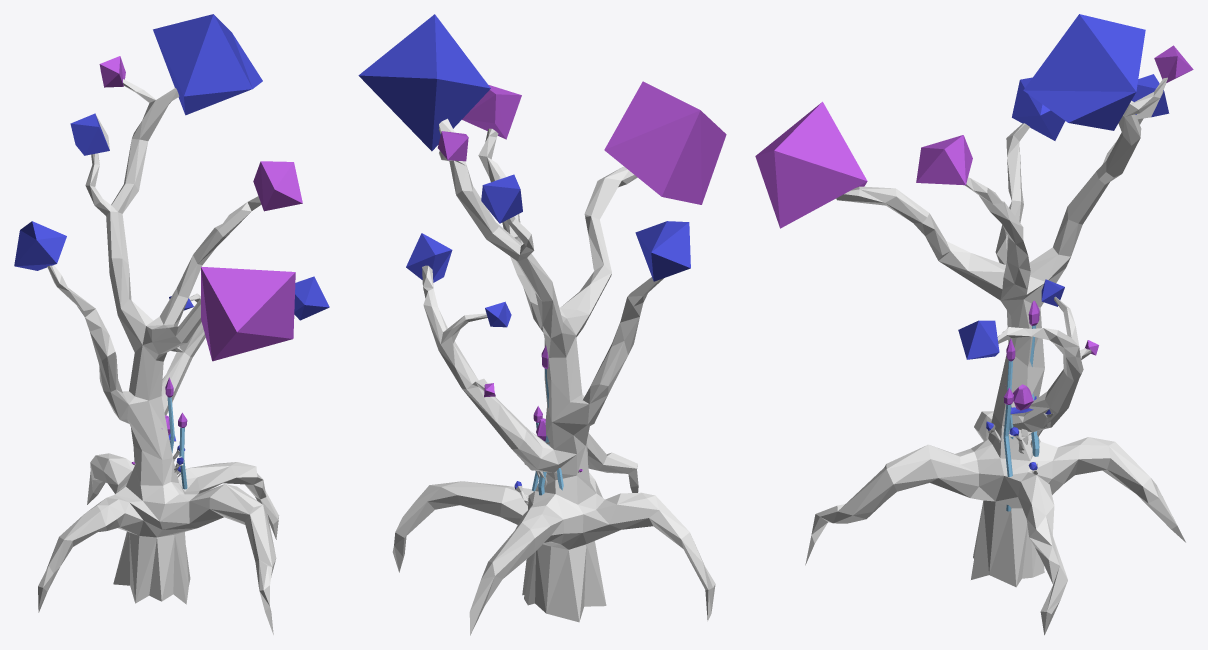
The model's file is plants.fbx.
The picture shows the model from 3 angles, left to right: view 1: azimuth 30°, elevation 25°; view 2: azimuth 150°, elevation 25°; view 3: azimuth 270°, elevation 25°; orthographic projection. The views are drawn at different scales.
Visible parts, largest first — view 1: Circle.002, SP_Plant06; view 2: Circle.002, SP_Plant06; view 3: Circle.002, SP_Plant06, Circle.001.
Part boxes in pixels (box(x1,y1,x2,y2)): Circle.002: box(14, 14, 329, 634); SP_Plant06: box(161, 377, 187, 489); Circle.002: box(358, 14, 726, 635); SP_Plant06: box(532, 345, 563, 495); Circle.002: box(755, 14, 1193, 635); SP_Plant06: box(1003, 300, 1039, 511); Circle.001: box(1010, 384, 1036, 444).
Size of the model in its own units: 1756 by 3200 by 2093.
